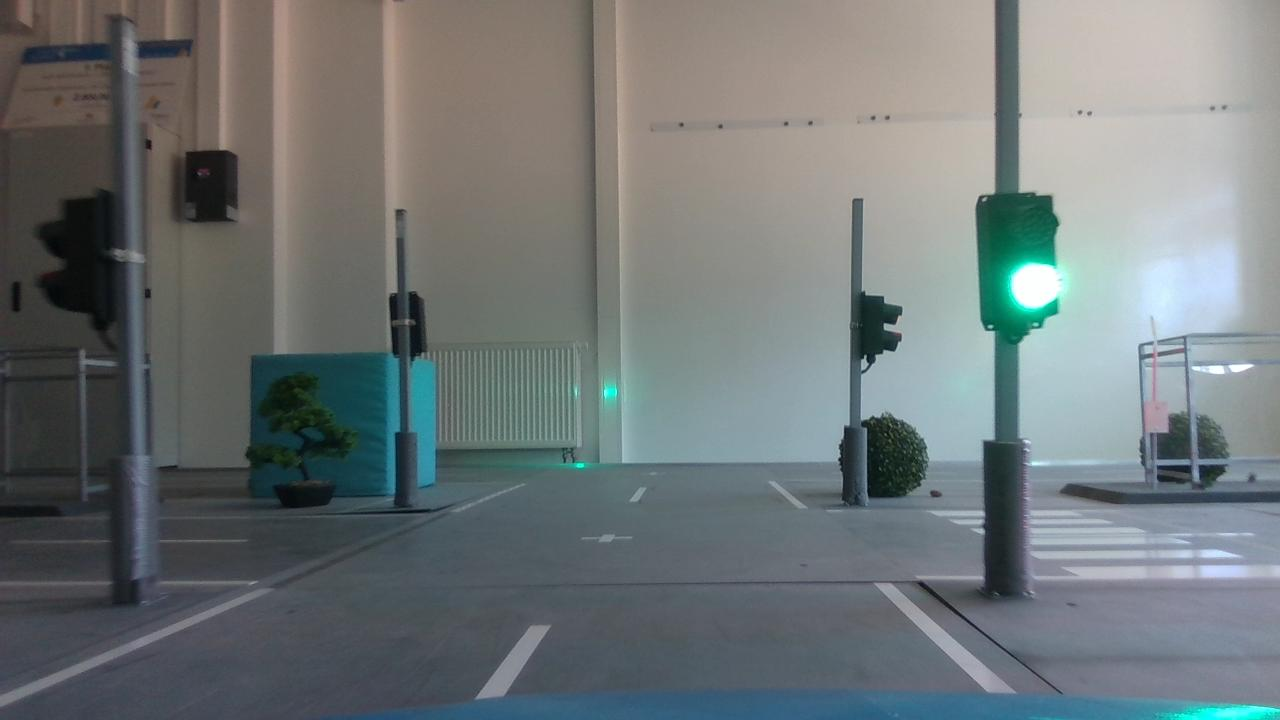traffic_light_green: (961, 187, 1077, 347)
